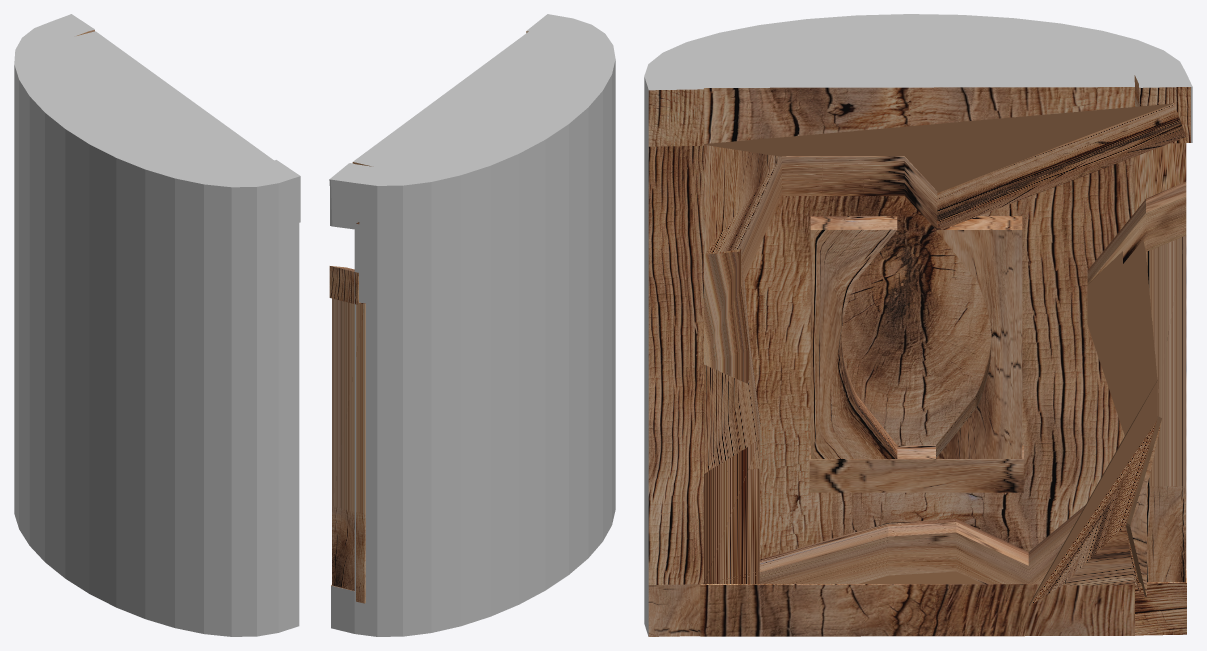
Rendered from Penek3.fbx.
3 views of the same model, side by side, from view 1: azimuth 30°, elevation 25°; view 2: azimuth 150°, elevation 25°; view 3: azimuth 270°, elevation 25° (orthographic). The views are drawn at different scales.
Parts seen in each view (by area): view 1: Cube; view 2: Cube; view 3: Cube.
Part boxes in pixels (bbox=[...]): Cube: bbox=[14, 14, 300, 636]; Cube: bbox=[329, 14, 615, 636]; Cube: bbox=[644, 14, 1192, 636].
Bounding box in the file's own units: 913 × 1006 × 300.
